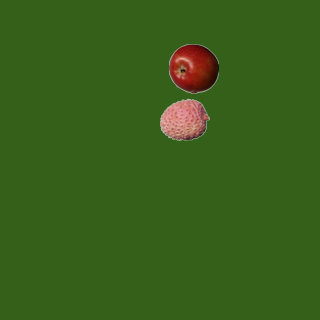Apple Braeburn: (168, 43, 218, 93)
Lychee: (159, 94, 209, 144)
